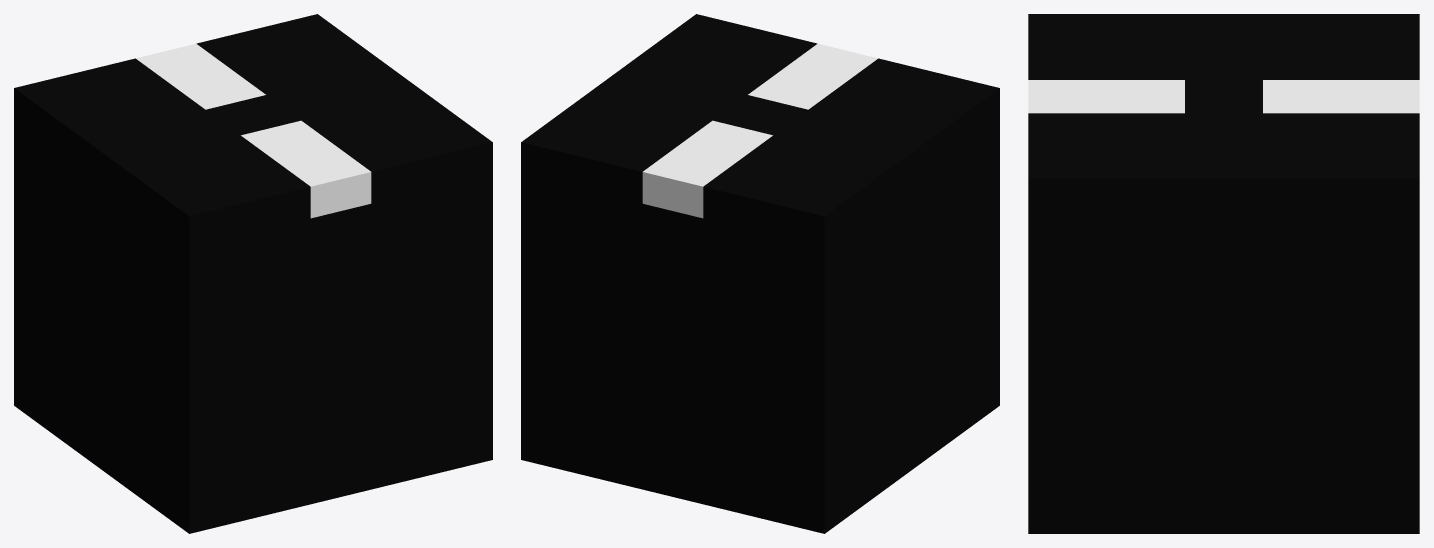
Rendered from asfaltCube.obj.
3 renders of one model, left to right at view 1: azimuth 30°, elevation 25°; view 2: azimuth 150°, elevation 25°; view 3: azimuth 270°, elevation 25°, orthographic. The views are drawn at different scales.
Size of the model in its own units: 1 by 1 by 1.
1 material, 1 textured.
